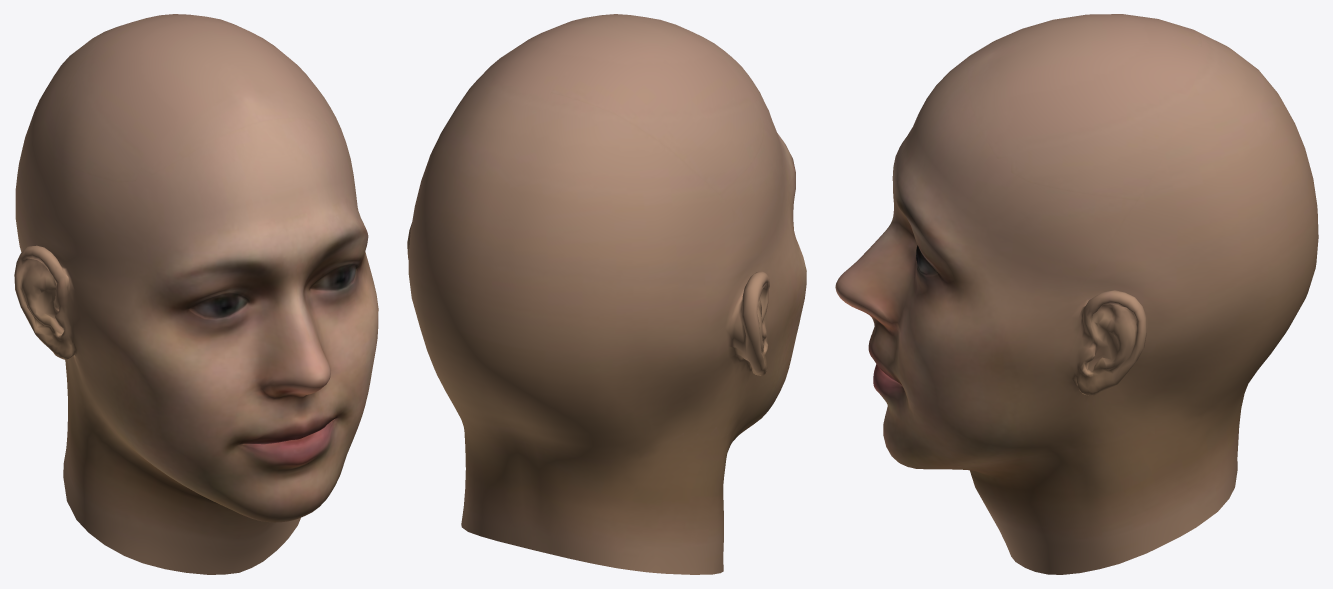
3 renders of one model, left to right at view 1: azimuth 30°, elevation 25°; view 2: azimuth 150°, elevation 25°; view 3: azimuth 270°, elevation 25°, orthographic. The views are drawn at different scales.
Parts seen in each view (by area): view 1: HeadHires; view 2: HeadHires; view 3: HeadHires.
Part boxes in pixels (box(x1,y1,x2,y2)): HeadHires: box(14, 14, 378, 574); HeadHires: box(407, 14, 806, 574); HeadHires: box(835, 14, 1318, 574).
Size of the model in its own units: 190 by 283 by 237.
Materials: 1 (1 with a texture image).
